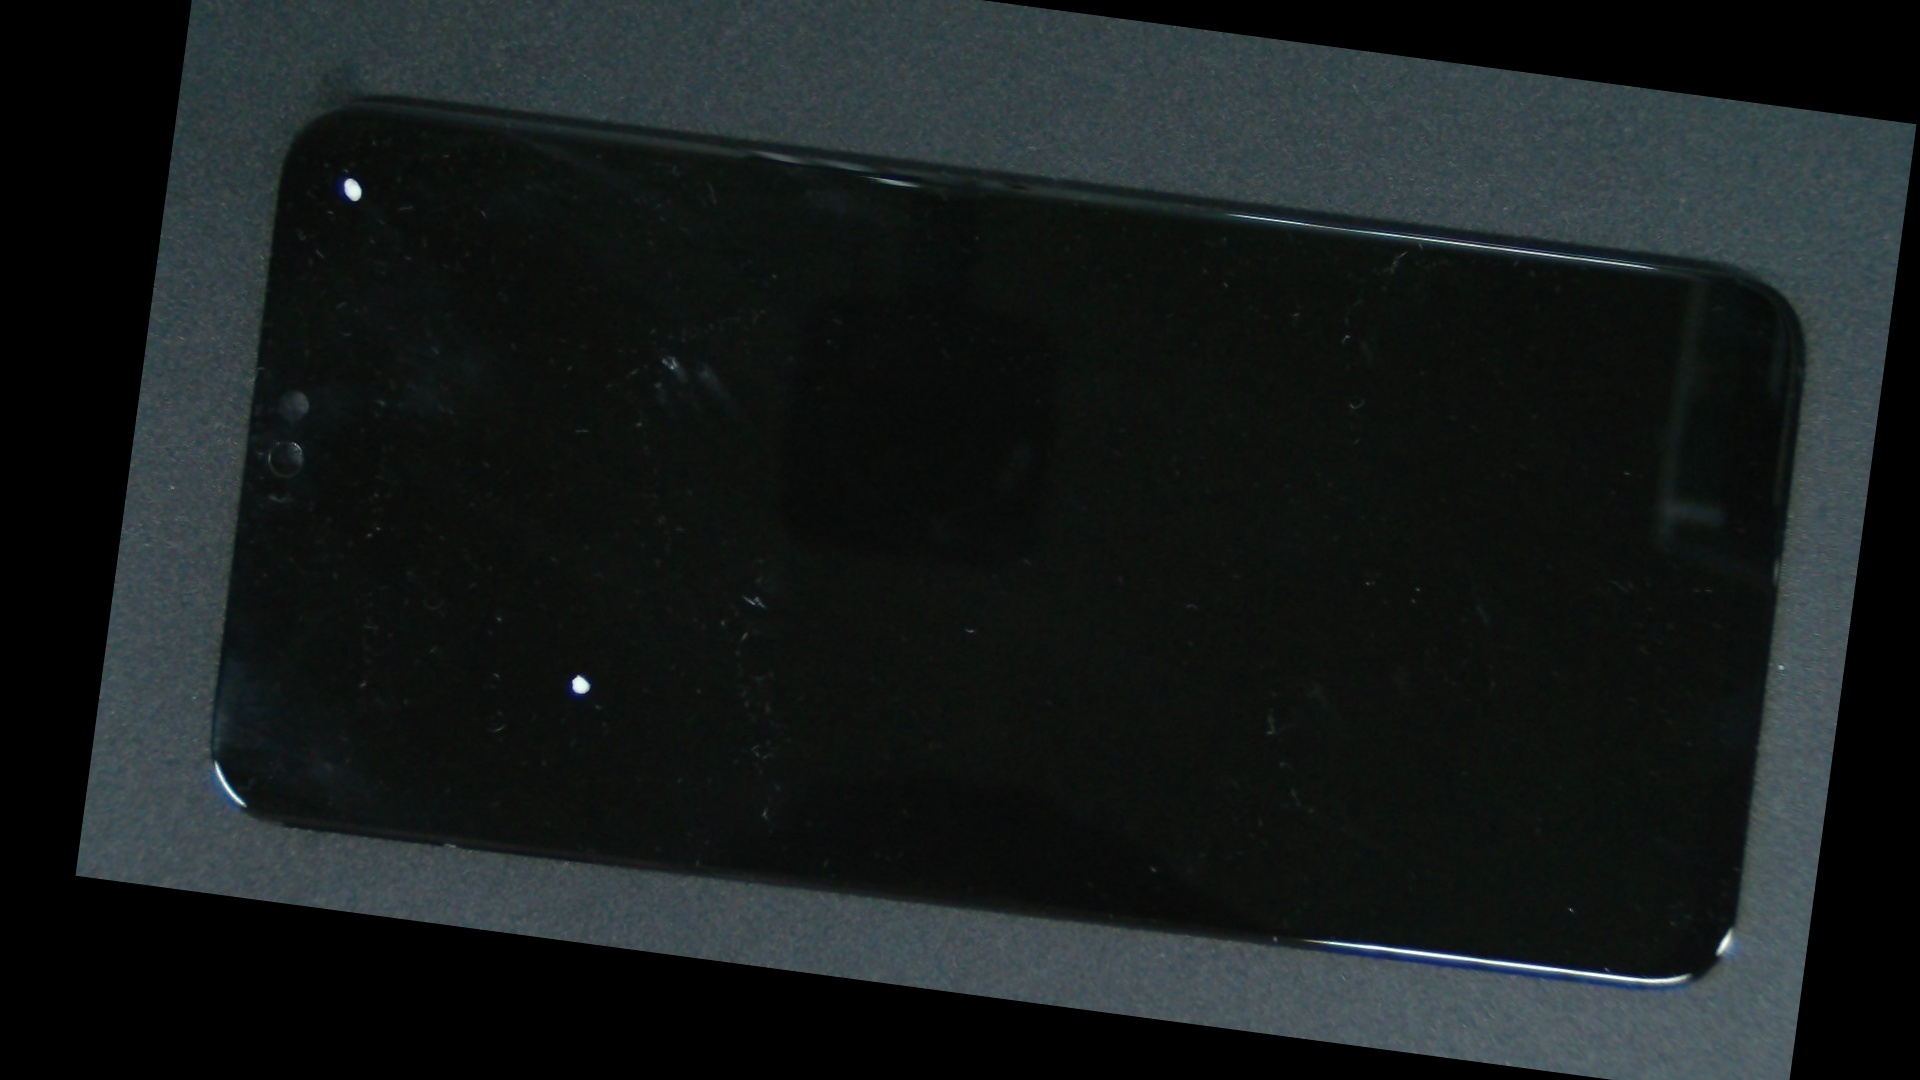oil: (310, 285, 860, 969), (385, 125, 951, 584), (243, 37, 452, 318)
